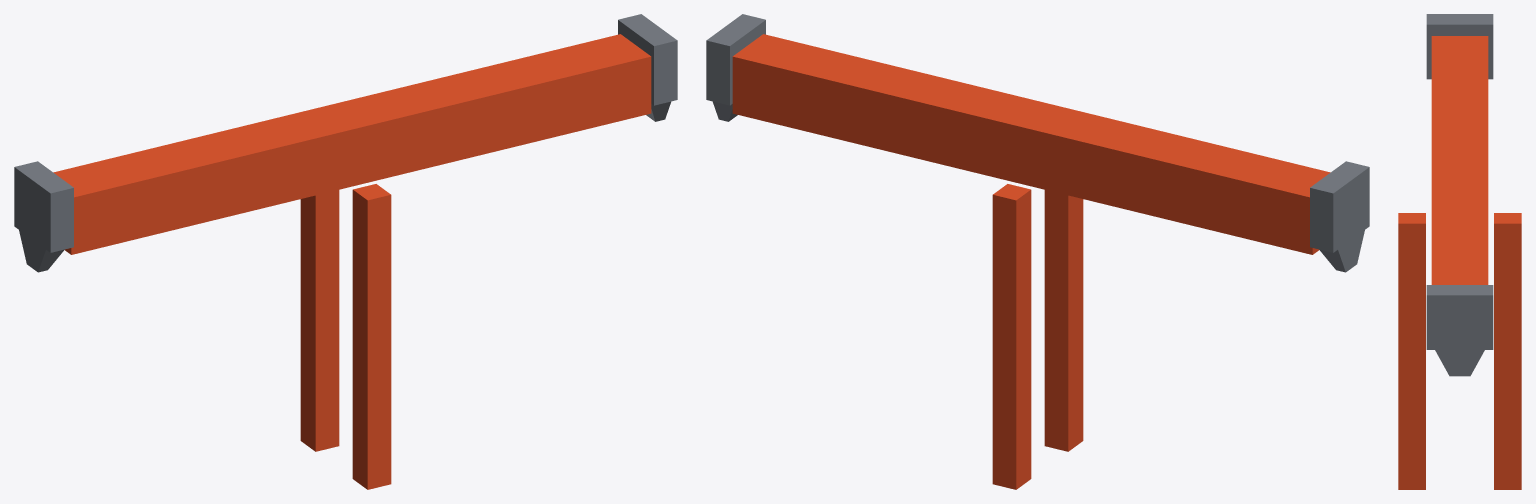
Rendered from site_conveyor_far.fbx.
3 renders of one model, left to right at view 1: azimuth 30°, elevation 25°; view 2: azimuth 150°, elevation 25°; view 3: azimuth 270°, elevation 25°, orthographic. The views are drawn at different scales.
Parts seen in each view (by area): view 1: a1022/0/site_conveyor_far; view 2: a1022/0/site_conveyor_far; view 3: a1022/0/site_conveyor_far.
Part boxes in pixels (x1,y1,x2,y2): a1022/0/site_conveyor_far: [14, 14, 677, 489]; a1022/0/site_conveyor_far: [706, 14, 1369, 489]; a1022/0/site_conveyor_far: [1398, 14, 1521, 489].
Bounding box in the file's own units: 16 × 8.75 × 2.96.
